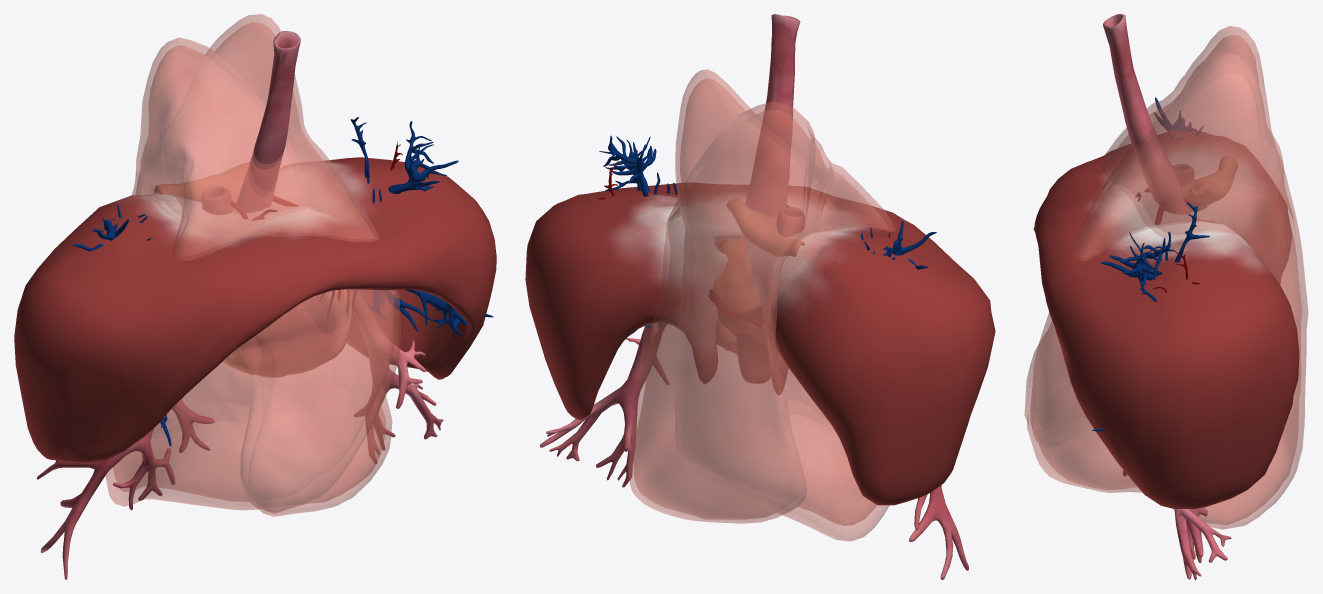
File: respiratory-system.mobile.glb
3 views of the same model, side by side, from view 1: azimuth 30°, elevation 25°; view 2: azimuth 150°, elevation 25°; view 3: azimuth 270°, elevation 25° (orthographic). The views are drawn at different scales.
Visible parts, largest first — view 1: mesh_16, mesh_4, mesh_17, Object_31, mesh_10, Object_34, mesh_12; view 2: mesh_16, mesh_17, mesh_4, Object_31, mesh_10, Object_34, mesh_12; view 3: mesh_16, mesh_17, mesh_4, Object_31, Object_34, mesh_10.
Part boxes in pixels (x1,y1,x2,y2): mesh_16: (14, 157, 496, 462); mesh_4: (105, 14, 400, 510); mesh_17: (132, 37, 392, 516); Object_31: (36, 31, 443, 579); mesh_10: (154, 162, 351, 377); Object_34: (73, 117, 493, 446); mesh_12: (202, 186, 232, 214); mesh_16: (525, 182, 995, 505); mesh_17: (628, 101, 895, 523); mesh_4: (675, 69, 889, 541); Object_31: (540, 14, 968, 579); mesh_10: (713, 198, 804, 354); Object_34: (599, 135, 936, 335); mesh_12: (736, 207, 804, 383); mesh_16: (1033, 130, 1299, 508); mesh_17: (1024, 26, 1308, 529); mesh_4: (1031, 53, 1301, 447); Object_31: (1103, 14, 1231, 579); Object_34: (1092, 97, 1209, 431); mesh_10: (1182, 156, 1237, 222).
Bounding box in the file's own units: 3530 × 3773 × 1916.
Materials: 23 (19 with a texture image).
